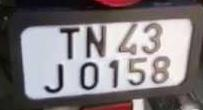0: (77, 60, 100, 90)
1: (107, 58, 120, 88)
3: (140, 21, 161, 53)
4: (117, 22, 136, 54)
5: (127, 55, 146, 86)
8: (150, 54, 170, 84)
J: (43, 63, 64, 92)
N: (83, 24, 107, 58)
T: (57, 26, 79, 59)
